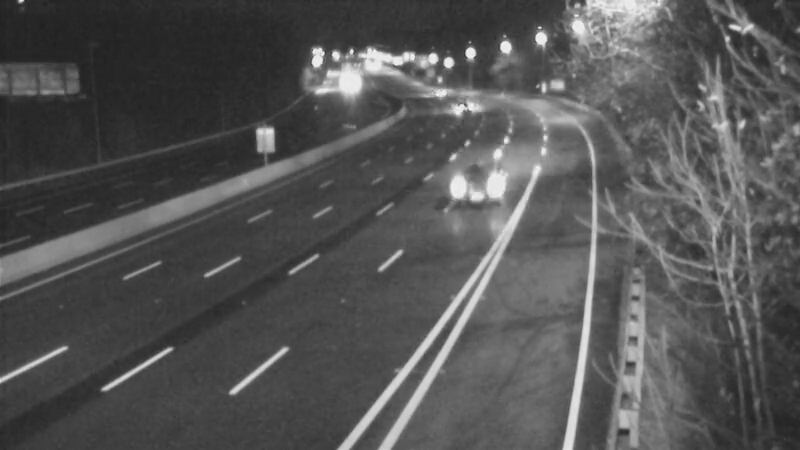vehicle: (437, 139, 517, 219), (416, 66, 466, 116), (436, 81, 486, 131), (320, 60, 370, 110)
